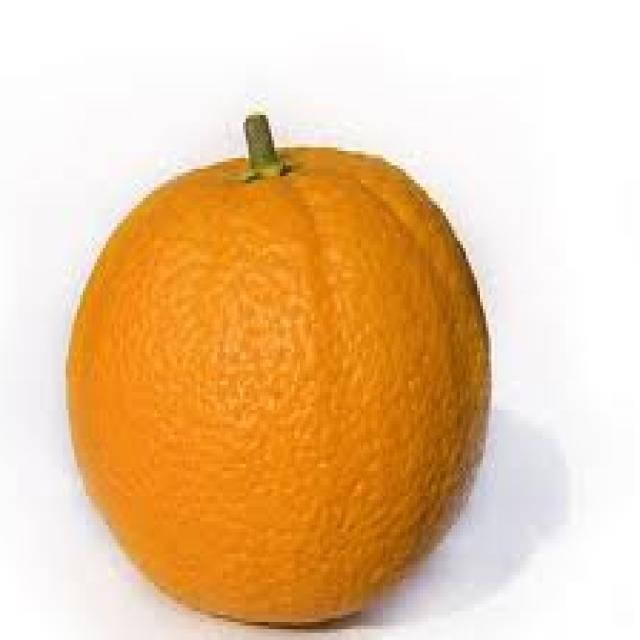orange: (49, 97, 497, 636)
